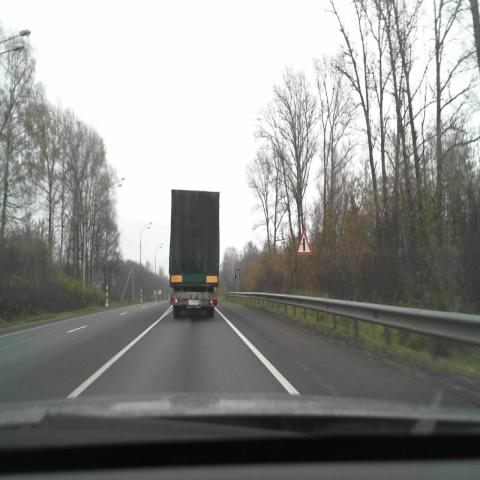2_3_3: (296, 229, 312, 255)
